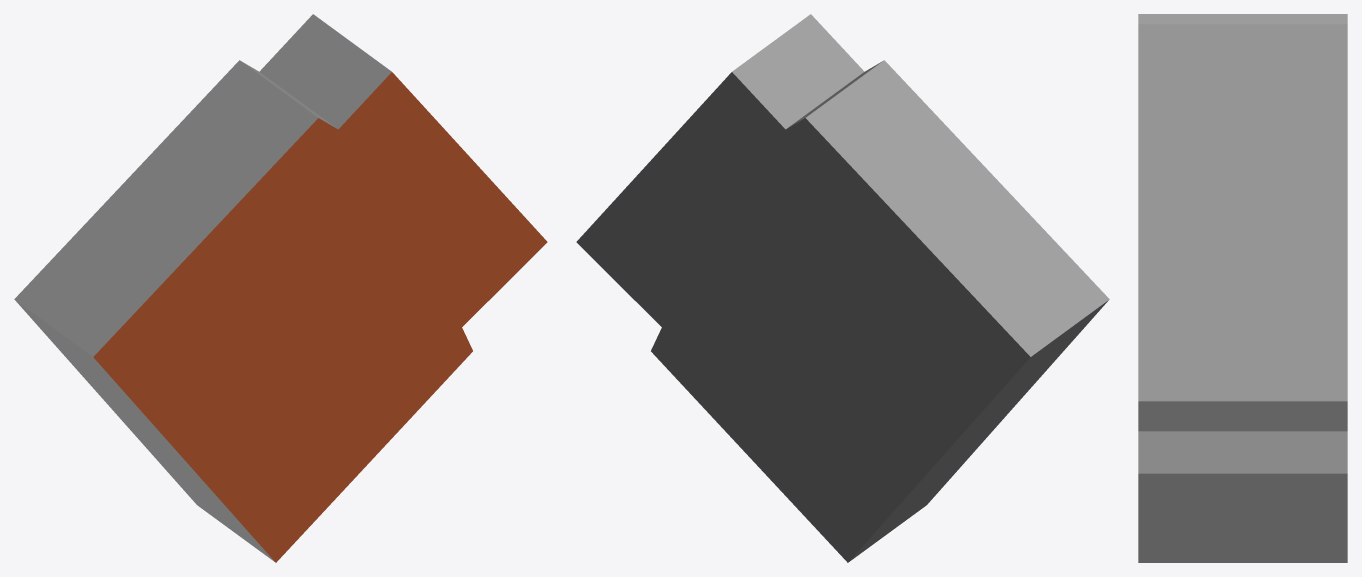
File: construction_2700_assumed_A_Casa_h6m.obj
3 views of the same model, side by side, from view 1: azimuth 30°, elevation 25°; view 2: azimuth 150°, elevation 25°; view 3: azimuth 270°, elevation 25° (orthographic). The views are drawn at different scales.
Visible parts, largest first — view 1: construction_2700_assumed_A_Casa; view 2: construction_2700_assumed_A_Casa; view 3: construction_2700_assumed_A_Casa.
Part boxes in pixels (<box>): construction_2700_assumed_A_Casa: <box>14,14,547,562</box>; construction_2700_assumed_A_Casa: <box>576,14,1109,562</box>; construction_2700_assumed_A_Casa: <box>1138,14,1347,562</box>.
Bounding box in the file's own units: 19.93 × 19.4 × 6.
